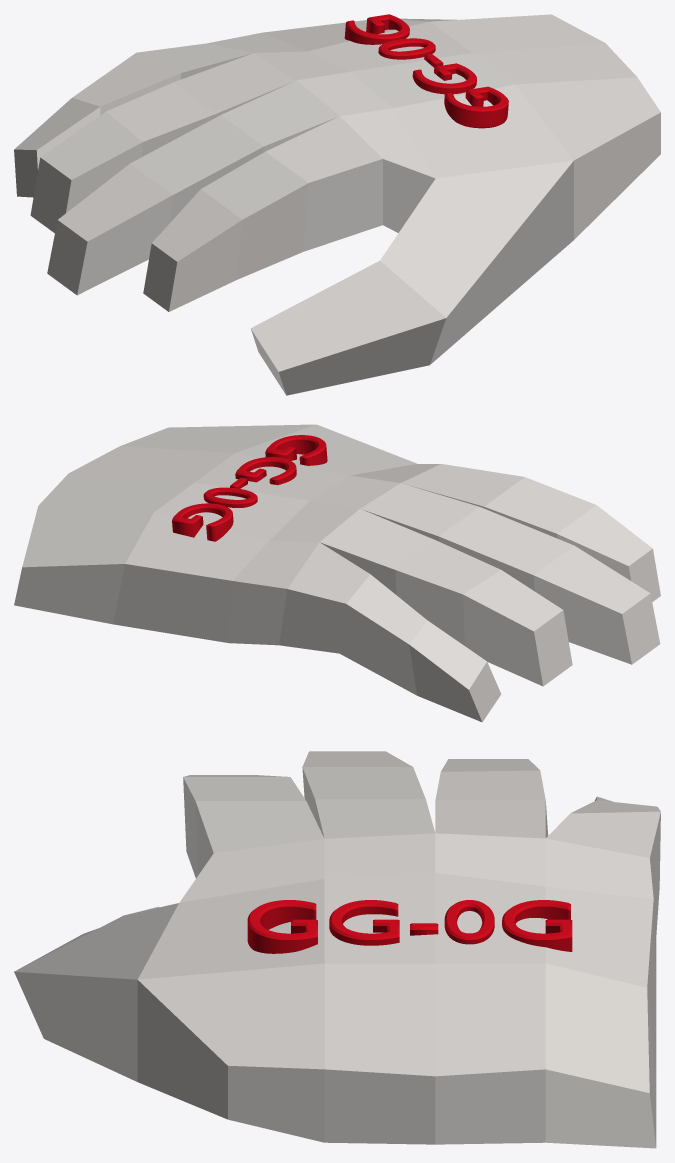
The model's file is Hand.fbx.
3 renders of one model, top to bottom at view 1: azimuth 30°, elevation 25°; view 2: azimuth 150°, elevation 25°; view 3: azimuth 270°, elevation 25°, orthographic. The views are drawn at different scales.
Visible parts, largest first — view 1: Cube, Text; view 2: Cube, Text; view 3: Cube, Text.
Boxes of the visible parts, <box> form: Cube: <box>14,14,660,395</box>; Text: <box>344,14,508,128</box>; Cube: <box>14,424,660,722</box>; Text: <box>172,435,327,541</box>; Cube: <box>14,751,660,1148</box>; Text: <box>247,900,572,953</box>.
Bounding box in the file's own units: 388 × 119 × 292.
